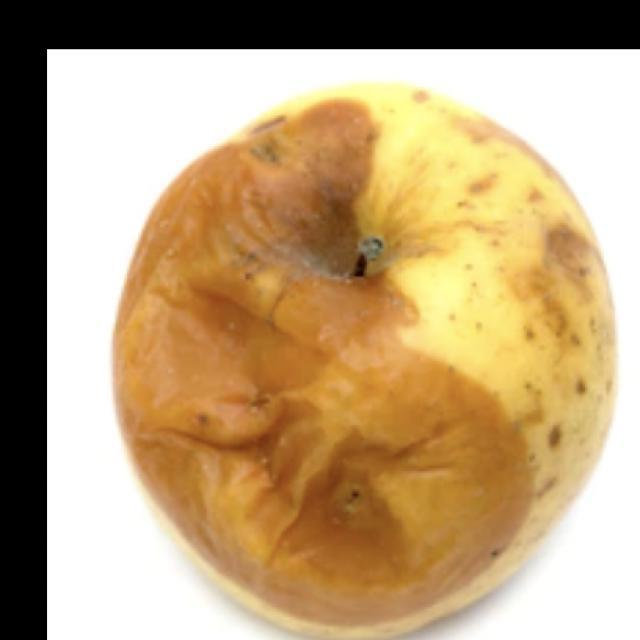Rotten: (122, 100, 608, 613)
